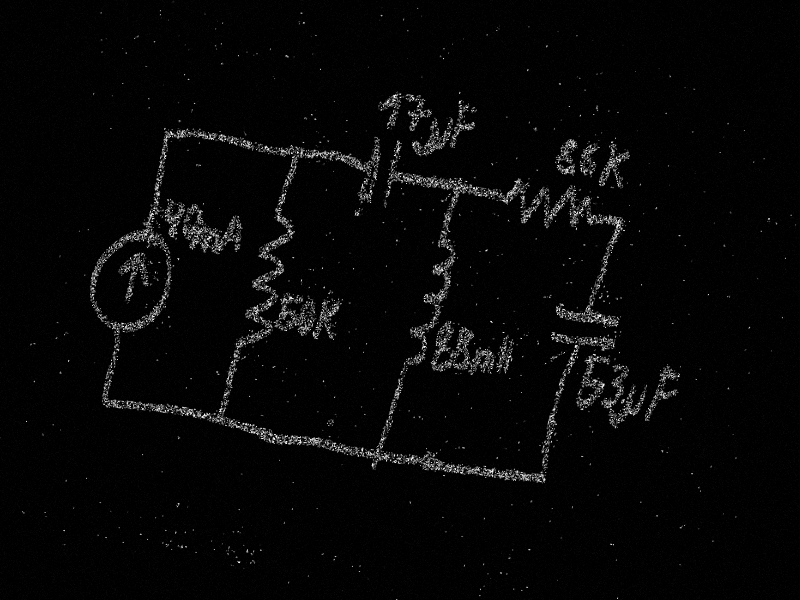0: (179, 201, 206, 244), (293, 298, 320, 338)
1: (369, 85, 405, 136)
3: (599, 361, 631, 412)
4: (157, 196, 188, 241)
5: (571, 353, 612, 415), (272, 290, 304, 335)
6: (575, 139, 603, 179)
7: (395, 91, 436, 137)
8: (426, 318, 463, 376), (448, 325, 478, 375), (550, 136, 583, 179)
A: (216, 211, 249, 259)
F: (643, 363, 685, 425), (446, 101, 482, 154)
H: (493, 335, 518, 377)
k: (597, 138, 635, 192), (310, 297, 343, 344)
m: (190, 224, 222, 256), (467, 347, 499, 377)
u: (420, 115, 454, 162), (618, 382, 649, 425)
